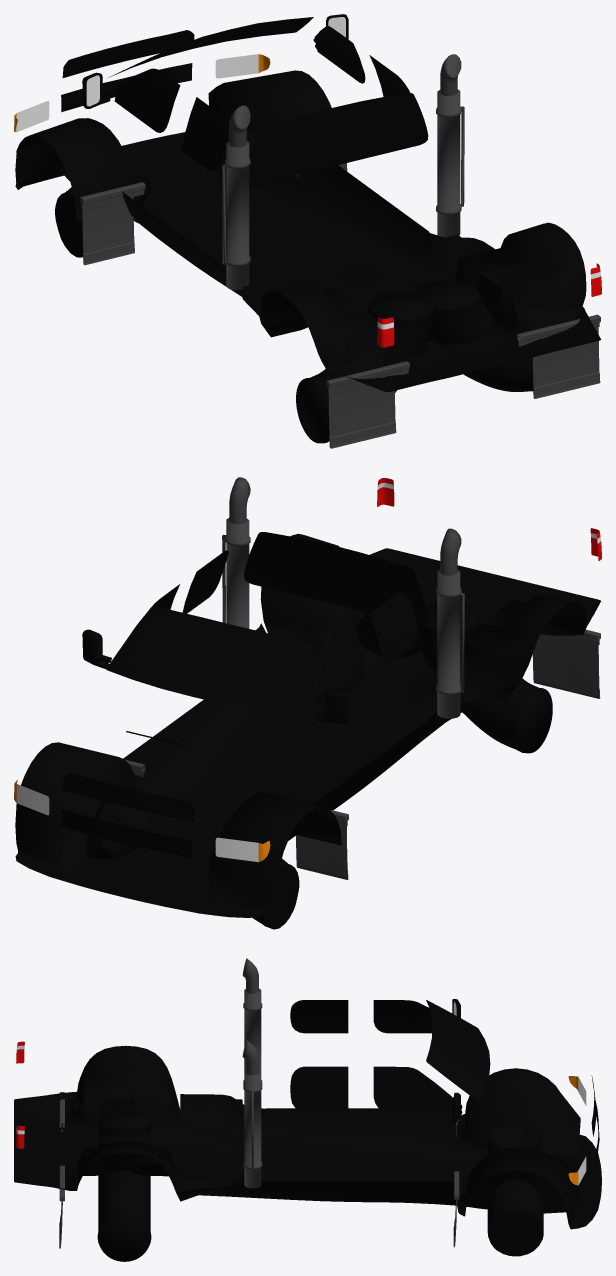
File: gta_truck_bodyhigh.obj
The picture shows the model from 3 angles, top to bottom: view 1: azimuth 30°, elevation 25°; view 2: azimuth 150°, elevation 25°; view 3: azimuth 270°, elevation 25°; orthographic projection. The views are drawn at different scales.
Visible parts, largest first — view 1: gta_truck_bodyhigh_GuardyMesh; view 2: gta_truck_bodyhigh_GuardyMesh; view 3: gta_truck_bodyhigh_GuardyMesh.
Part boxes in pixels (x1=…): gta_truck_bodyhigh_GuardyMesh: x1=14, y1=14, x2=601, y2=448; gta_truck_bodyhigh_GuardyMesh: x1=14, y1=477, x2=601, y2=929; gta_truck_bodyhigh_GuardyMesh: x1=14, y1=958, x2=601, y2=1261.
Size of the model in its own units: 4.5 by 4.31 by 10.43.
